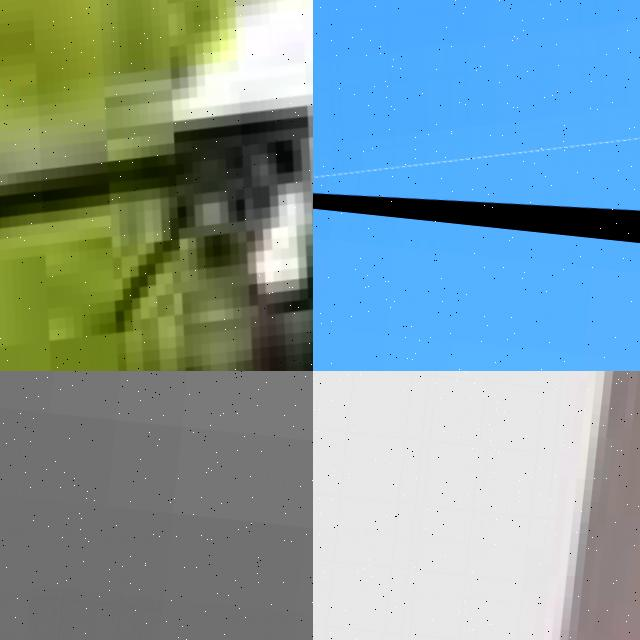drone: (0, 0, 313, 371), (313, 0, 640, 245)
